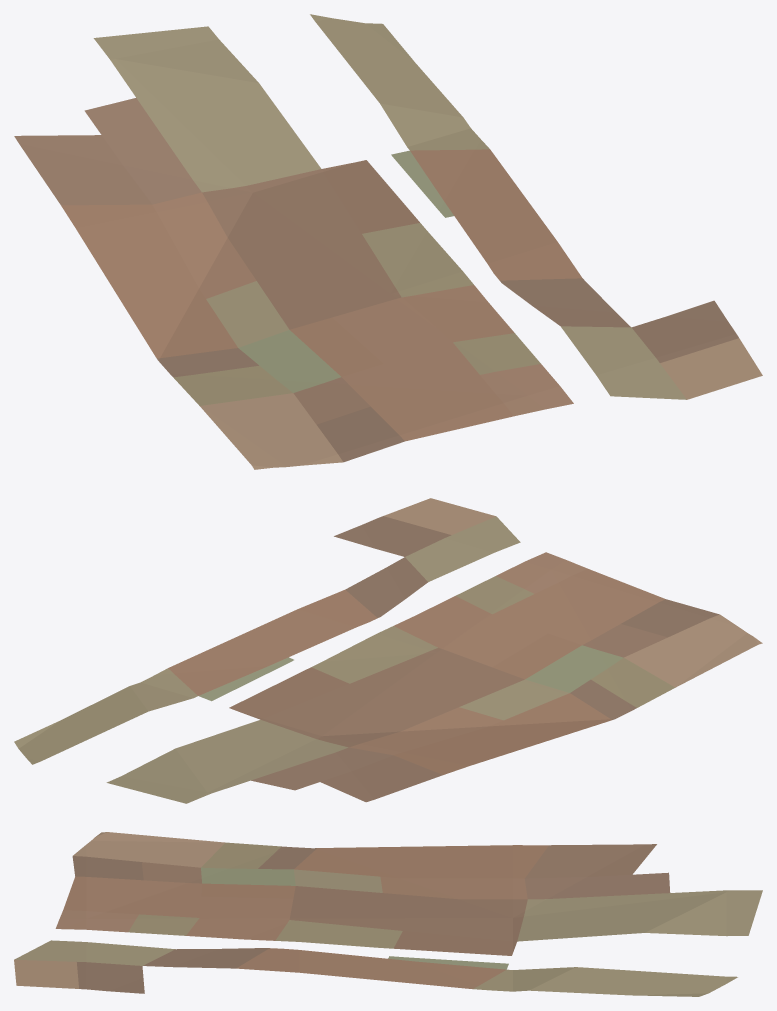
File: farm_-41_-37_soil.glb
3 views of the same model, one above another, from view 1: azimuth 30°, elevation 25°; view 2: azimuth 150°, elevation 25°; view 3: azimuth 270°, elevation 25° (orthographic). The views are drawn at different scales.
Parts seen in each view (by area): view 1: geometry_0; view 2: geometry_0; view 3: geometry_0.
Boxes of the visible parts, x1,y1,x2,y2 form: geometry_0: [14, 14, 762, 469]; geometry_0: [14, 498, 762, 803]; geometry_0: [14, 832, 762, 996].
Size of the model in its own units: 172 by 17.93 by 281.
